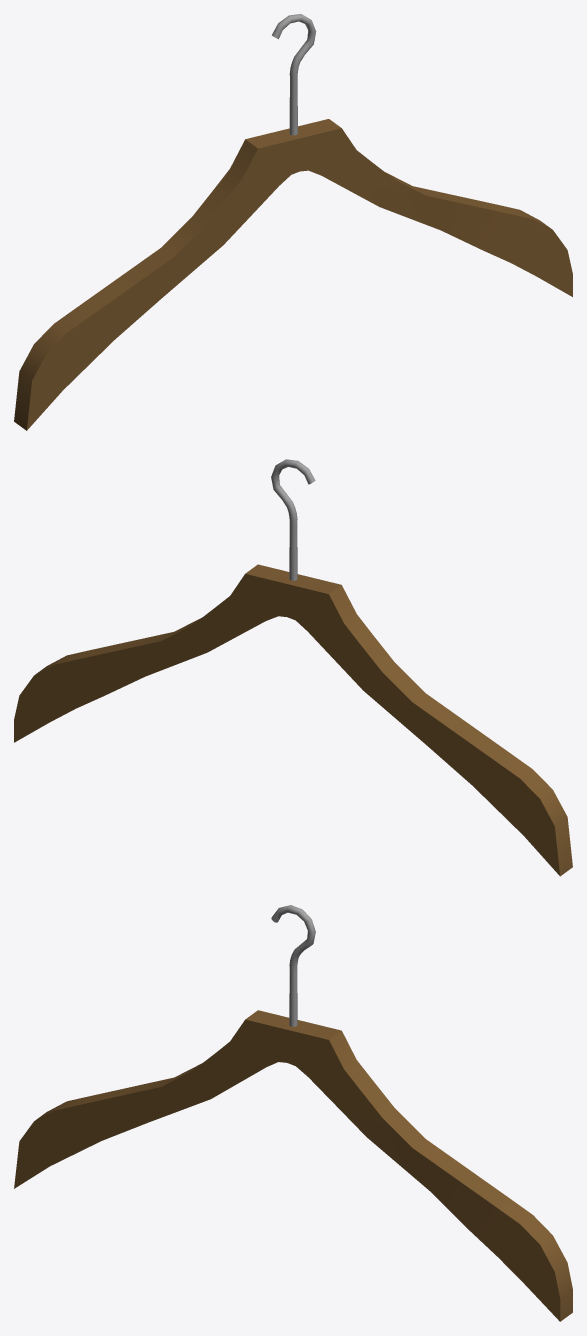
File: cintre.001.glb
3 renders of one model, top to bottom at view 1: azimuth 30°, elevation 25°; view 2: azimuth 150°, elevation 25°; view 3: azimuth 330°, elevation 25°, orthographic.
Visible parts, largest first — view 1: Cube; view 2: Cube; view 3: Cube.
Boxes of the visible parts, x1,y1,x2,y2 form: Cube: (14, 14, 572, 430); Cube: (14, 459, 572, 876); Cube: (14, 905, 572, 1321).
Size of the model in its own units: 1.02 by 0.616 by 0.0414.
